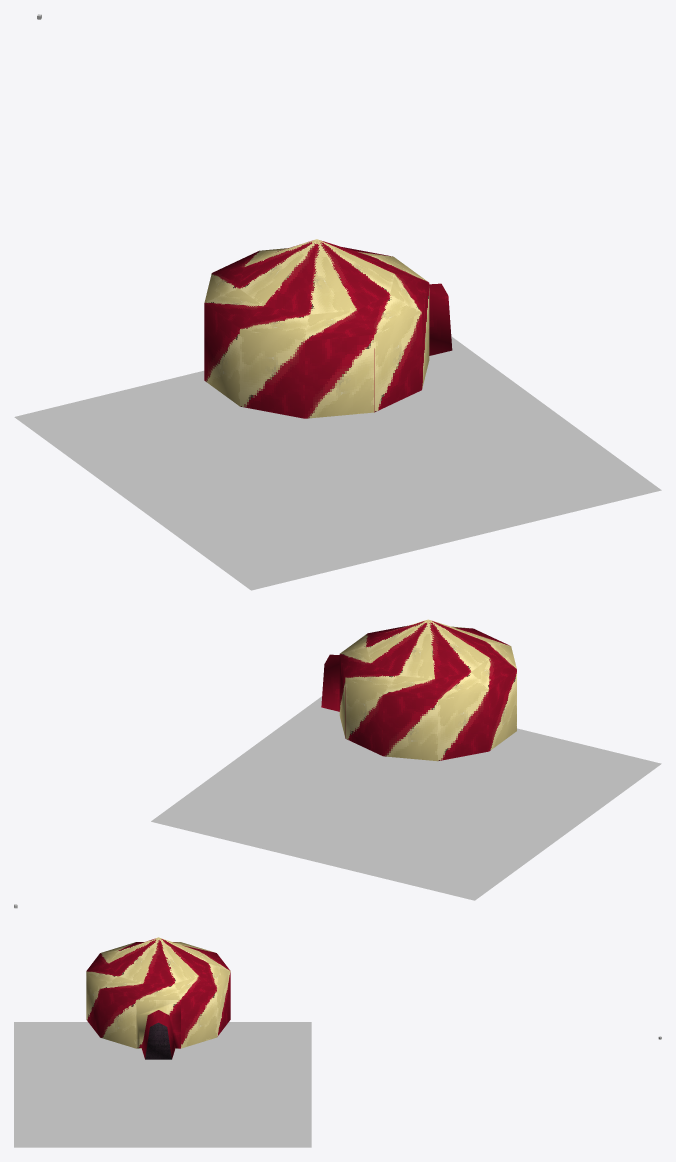
Rendered from level 8 area 3.obj.
The picture shows the model from 3 angles, top to bottom: view 1: azimuth 30°, elevation 25°; view 2: azimuth 150°, elevation 25°; view 3: azimuth 270°, elevation 25°; orthographic projection. The views are drawn at different scales.
Parts seen in each view (by area): view 1: Plane, Circle; view 2: Plane, Circle; view 3: Plane, Circle.
Boxes of the visible parts, bbox=[...] form: Plane: bbox=[14, 336, 661, 590]; Circle: bbox=[204, 239, 452, 418]; Plane: bbox=[151, 696, 661, 900]; Circle: bbox=[321, 619, 516, 761]; Plane: bbox=[14, 1022, 311, 1147]; Circle: bbox=[86, 937, 230, 1059].
Size of the model in its own units: 247 by 128 by 538.
